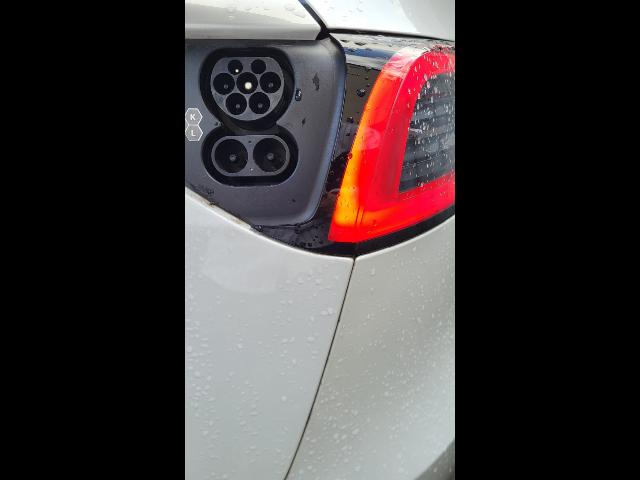inlet: (211, 57, 284, 121)
inlet-above-left: (228, 60, 243, 75)
inlet-above-right: (250, 59, 266, 74)
inlet-below-left: (226, 93, 247, 115)
inlet-below-right: (248, 92, 270, 115)
inlet-circle: (236, 72, 258, 94)
inlet-circle-left: (213, 73, 235, 95)
inlet-circle-right: (260, 71, 281, 94)
inlet-minus: (253, 137, 286, 173)
inlet-plus: (215, 139, 248, 174)
